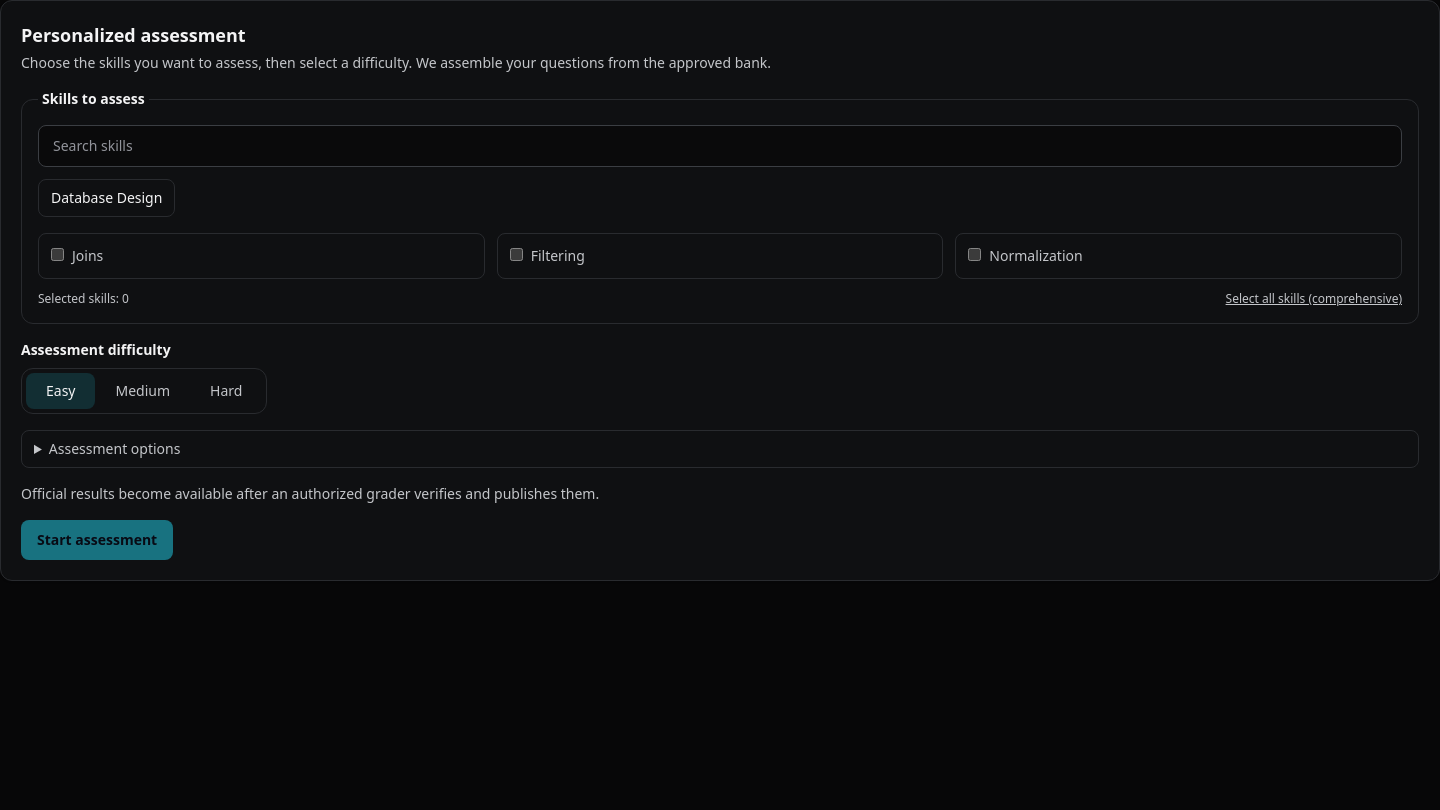
Test: automatically finds an open assessment for the skill and rejects unsupported combinations
What coordinates should you click on to do the following:
click the checkbox labelled "Normalization"
I would click on:
 (975, 254)
Its box is [968, 248, 981, 261].
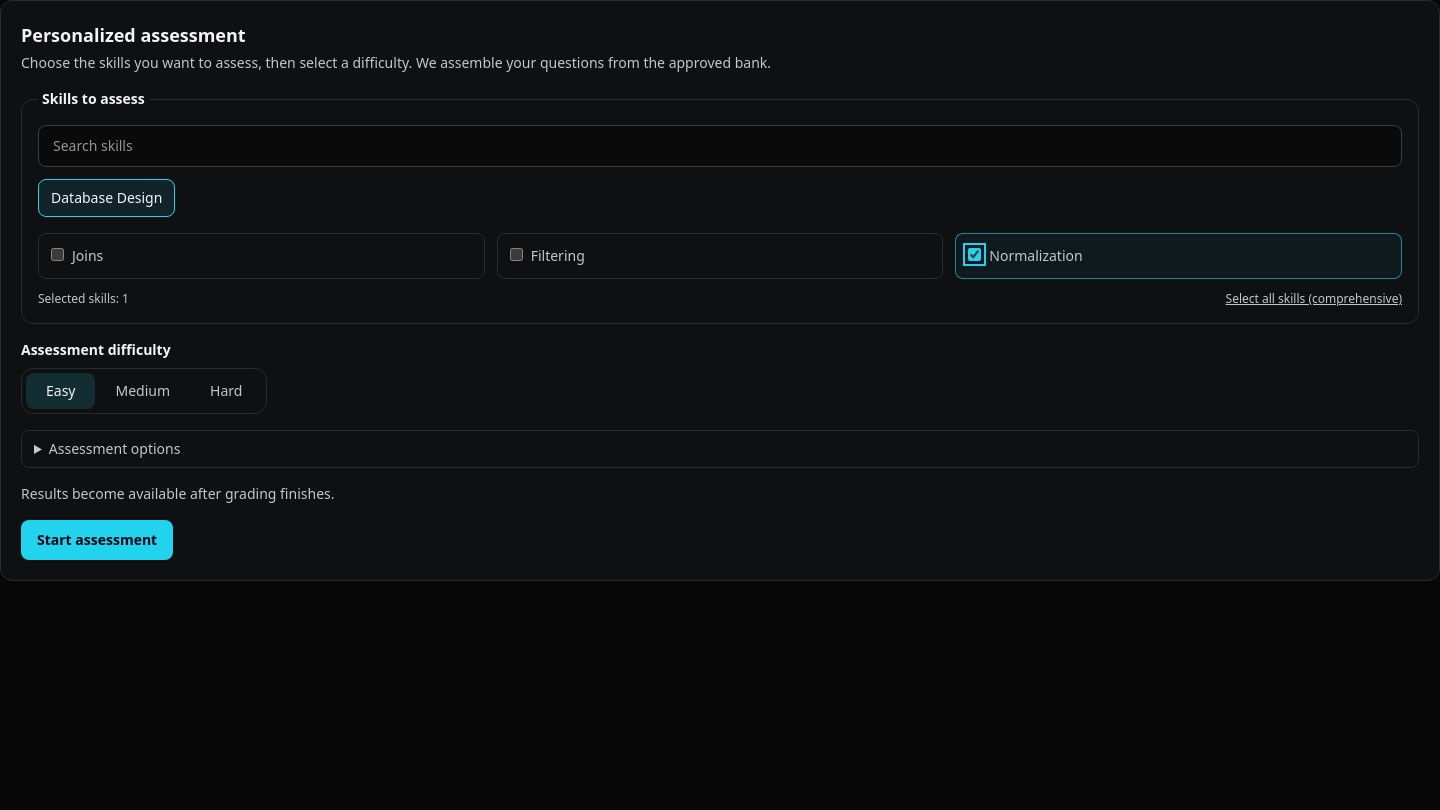
What coordinates should you click on to do the following:
click the button "Start assessment"
I would click on:
 (97, 540)
Its box is [21, 520, 173, 560].
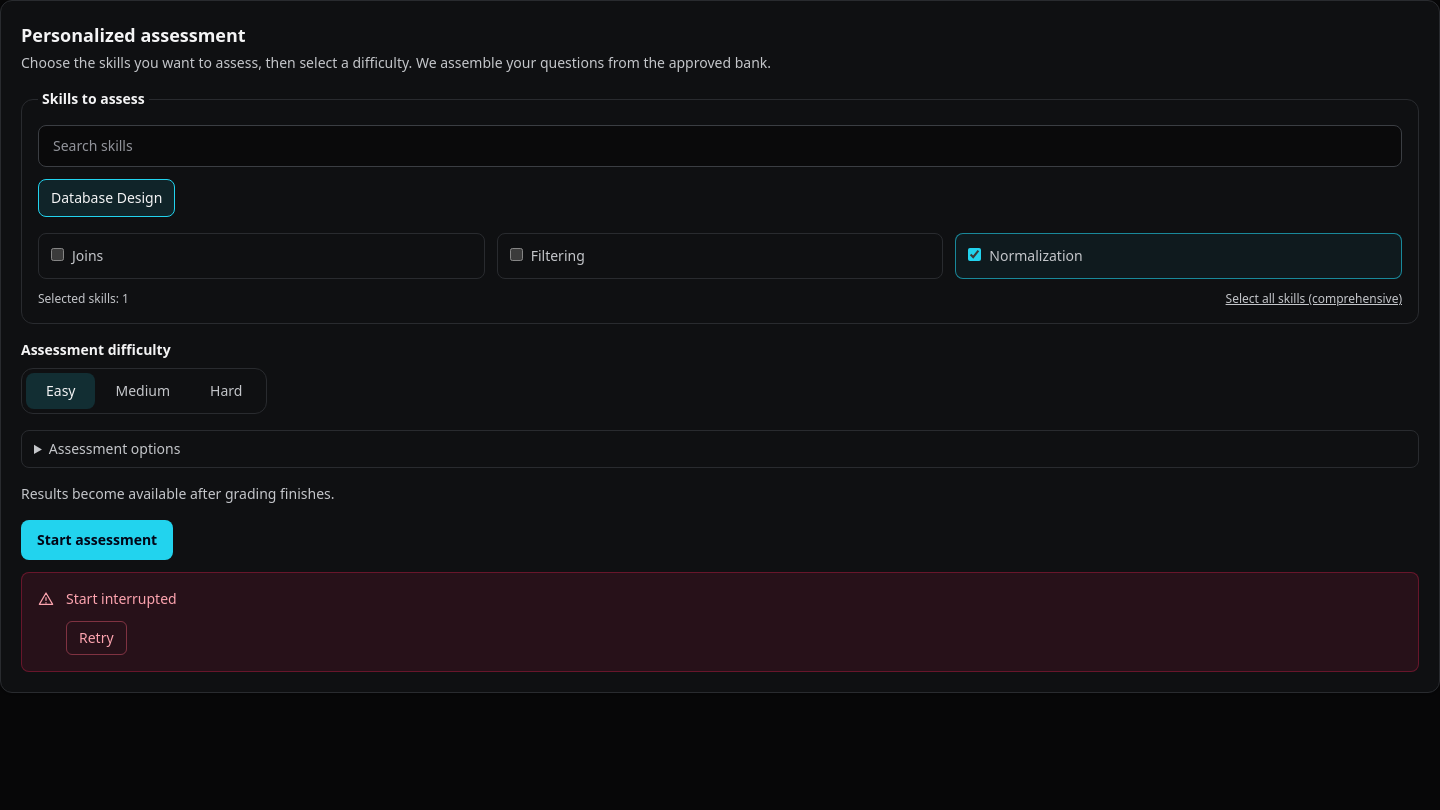
What coordinates should you click on to do the following:
click the checkbox labelled "Joins"
I would click on:
 (58, 254)
Its box is [51, 248, 64, 261].
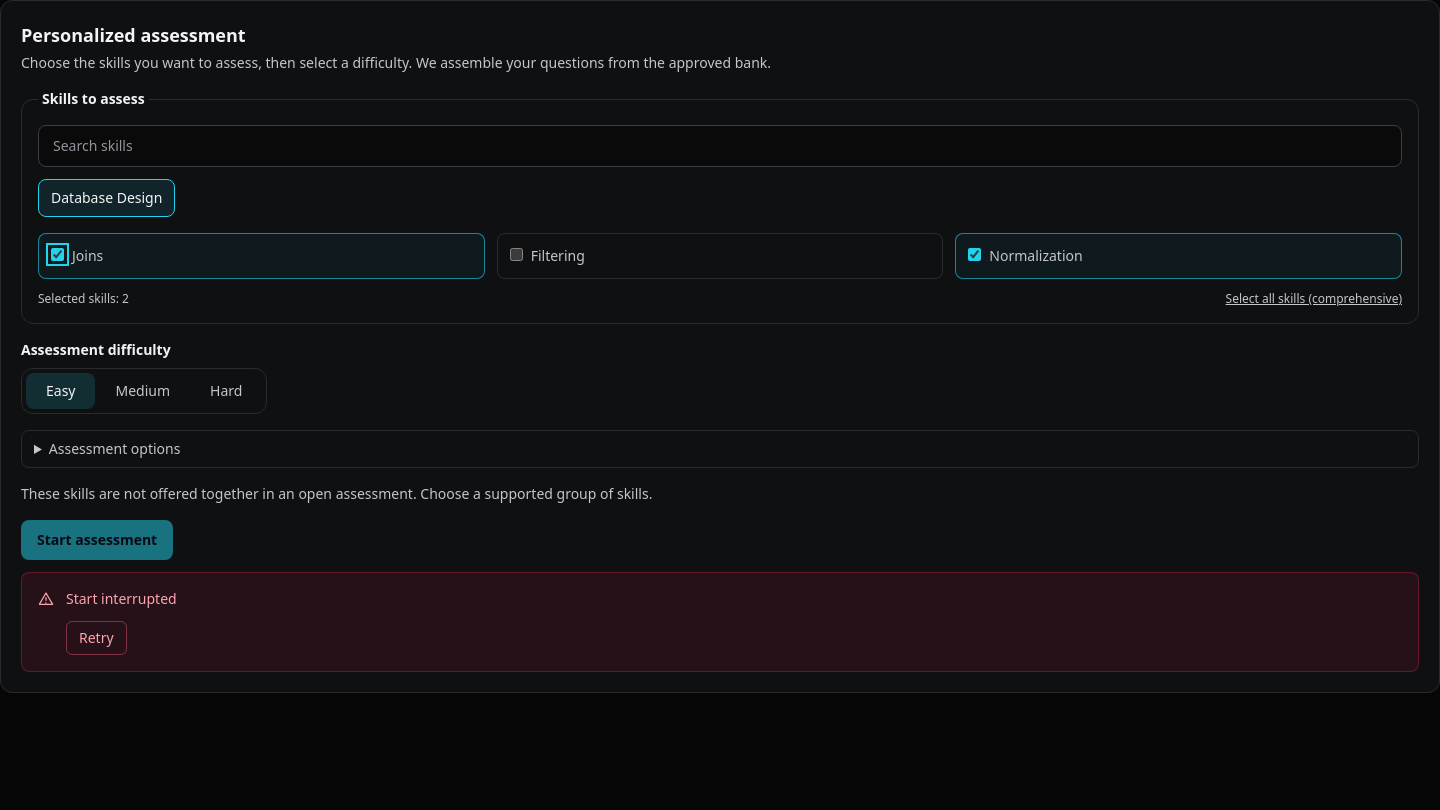
Result: the button "Start assessment" is disabled at [21, 520, 173, 560]
Result: the 1st message shows "These skills are not offered together in an open assessment" at [21, 484, 652, 503]
